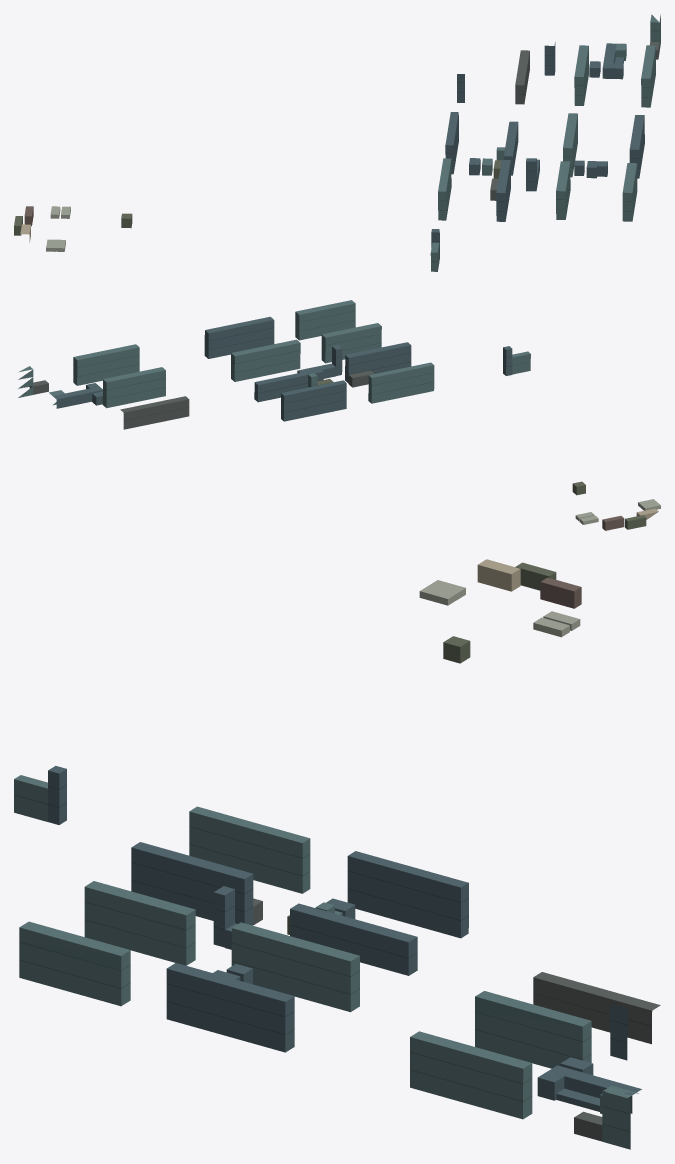
The model's file is terminal-1---140_-16.glb.
The picture shows the model from 3 angles, top to bottom: view 1: azimuth 30°, elevation 25°; view 2: azimuth 150°, elevation 25°; view 3: azimuth 270°, elevation 25°; orthographic projection. The views are drawn at different scales.
Parts seen in each view (by area): view 1: measured-industrial; view 2: measured-industrial; view 3: measured-industrial.
Boxes of the visible parts, x1,y1,x2,y2 form: measured-industrial: (14,14,660,271); measured-industrial: (18,300,660,530); measured-industrial: (14,559,660,1149).
Size of the model in its own units: 202 by 9.46 by 94.89.
